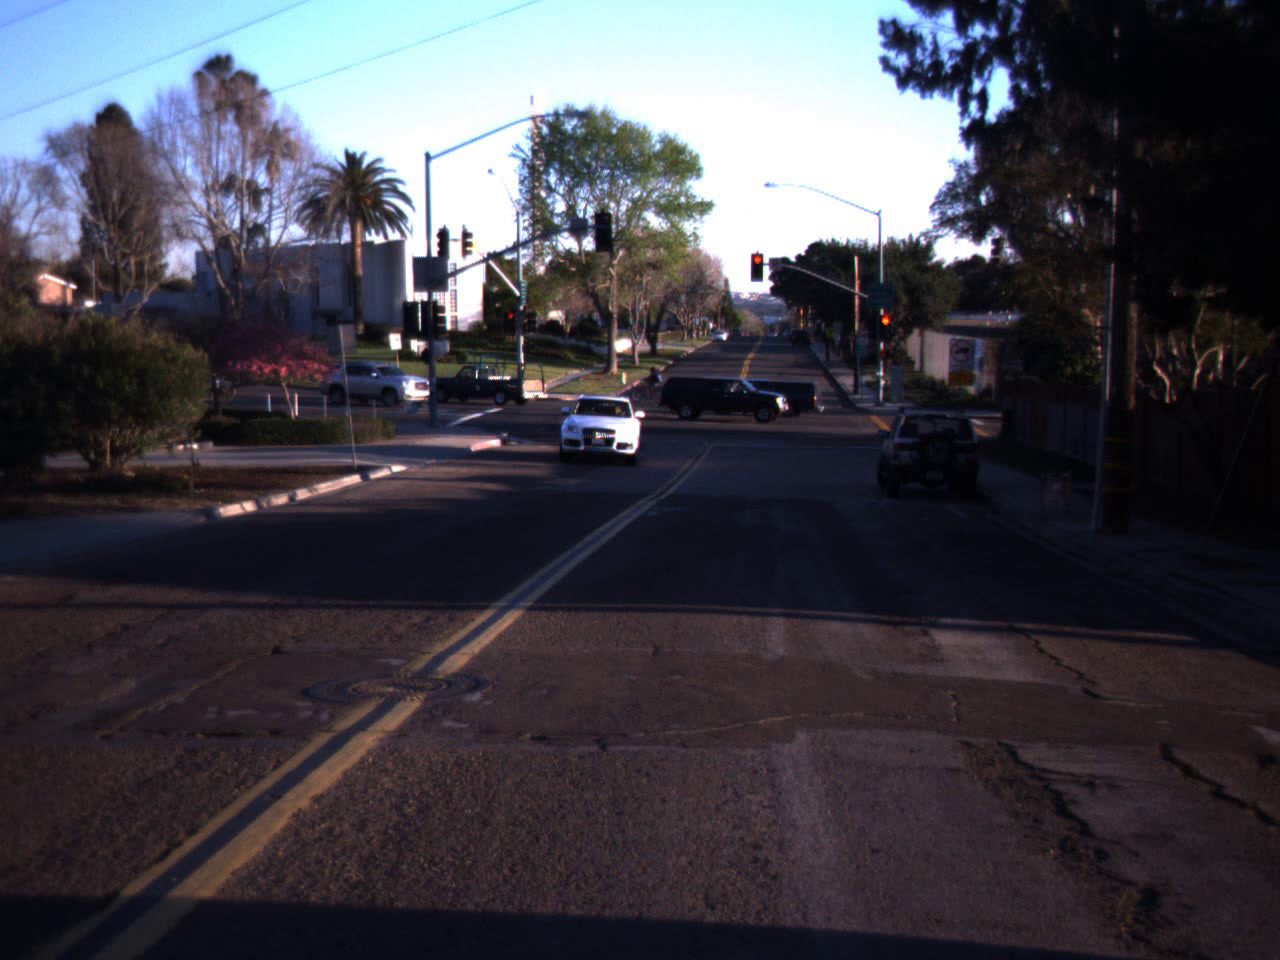stop: (874, 312, 898, 348), (749, 252, 767, 283)
